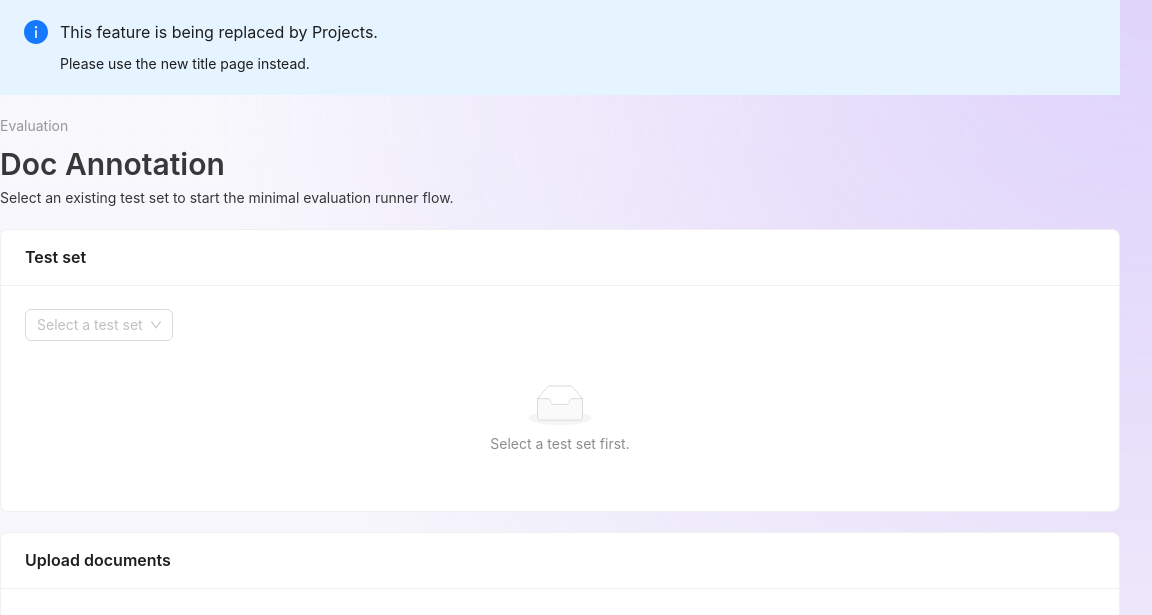
DocAnnotationPage › loads uploaded documents for the selected test set and exposes original download links
Press the mouse on the dropdown named "Test set selector": (90, 325) left=37, top=316, right=143, bottom=333
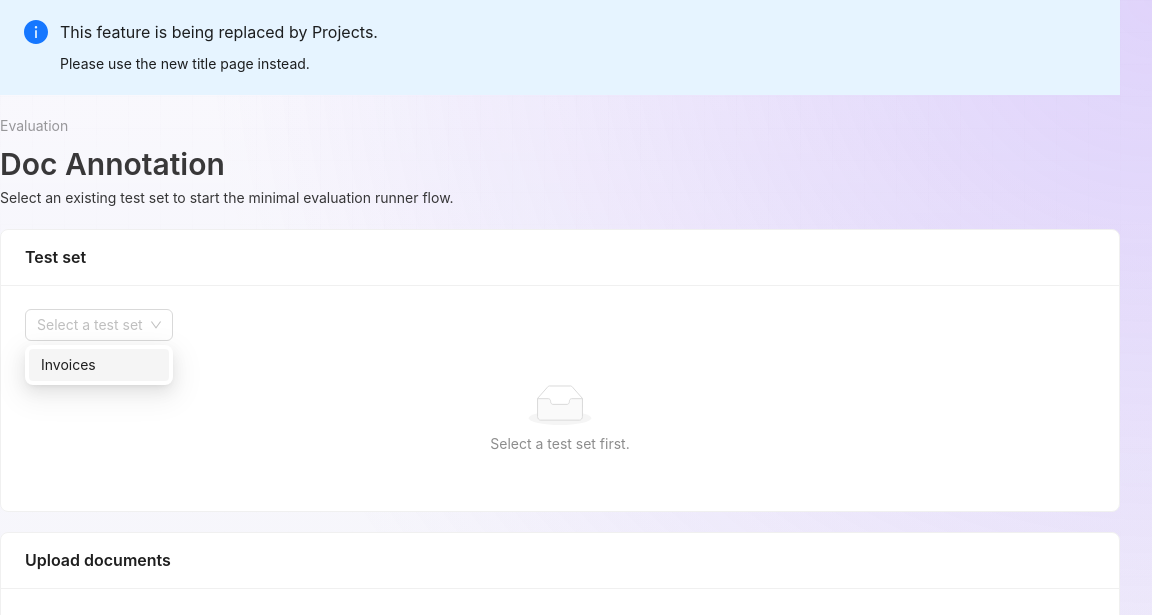
Click the text "Invoices": (68, 364) left=41, top=356, right=96, bottom=373
(page scrolled)
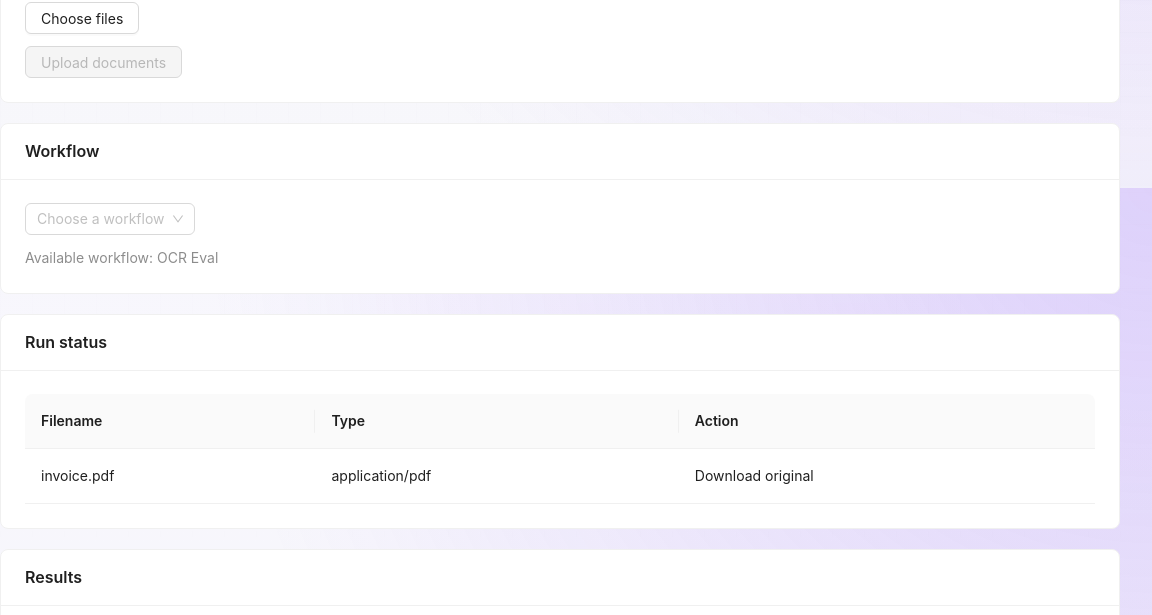
Check: the text "invoice.pdf" is shown, box left=25, top=449, right=316, bottom=504
